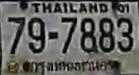3: (116, 17, 132, 51)
7: (7, 16, 24, 53), (60, 16, 76, 53)
8: (80, 17, 96, 52), (98, 17, 114, 51)
9: (27, 16, 44, 52)
BKK: (28, 58, 115, 73)
